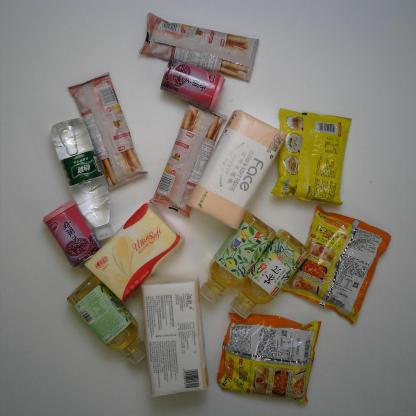Canned Food: (44, 199, 103, 270), (158, 57, 226, 111)
Dessert: (68, 73, 149, 189), (148, 105, 226, 217), (139, 14, 260, 82)
Drink: (50, 119, 114, 241), (66, 276, 150, 365), (230, 229, 308, 318), (200, 212, 276, 303)
Instant Noodles: (281, 207, 391, 325), (219, 308, 321, 406), (273, 107, 352, 204)
Tissue: (188, 111, 285, 231), (82, 199, 183, 304), (139, 278, 209, 397)
